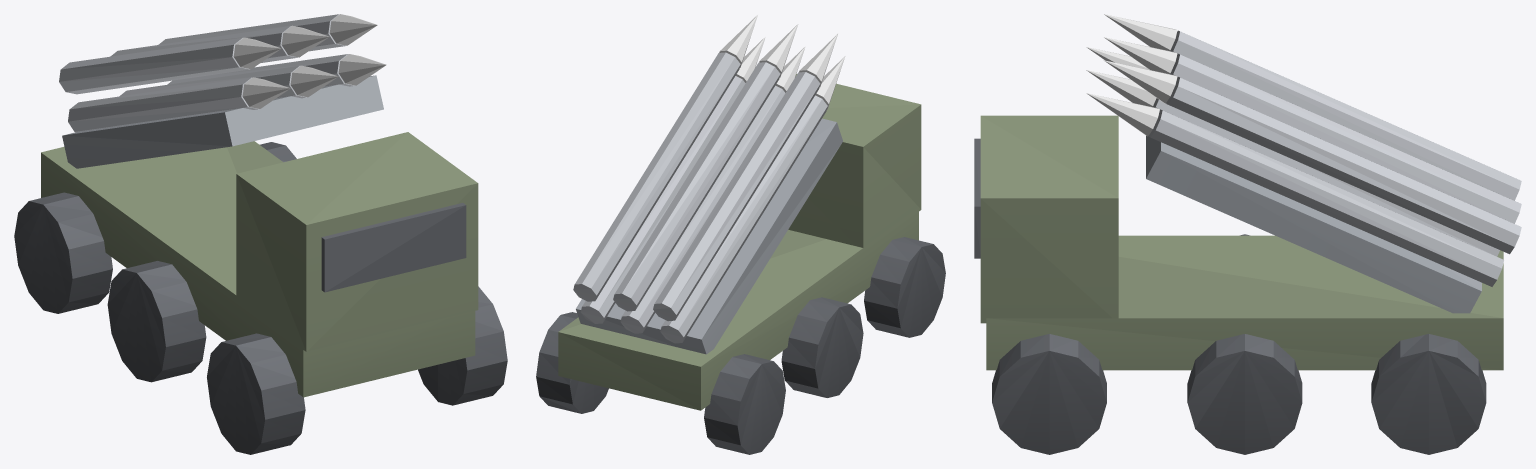
Rendered from Rocket Artillery.glb.
3 renders of one model, left to right at view 1: azimuth 30°, elevation 25°; view 2: azimuth 150°, elevation 25°; view 3: azimuth 270°, elevation 25°, orthographic. The views are drawn at different scales.
Visible parts, largest first — view 1: Body; view 2: Body; view 3: Body.
Boxes of the visible parts, left/top/right/bottom form: Body: left=14, top=14, right=507, bottom=454; Body: left=536, top=15, right=945, bottom=454; Body: left=974, top=14, right=1521, bottom=454.
Size of the model in its own units: 0.48 by 0.6903 by 0.9525.
